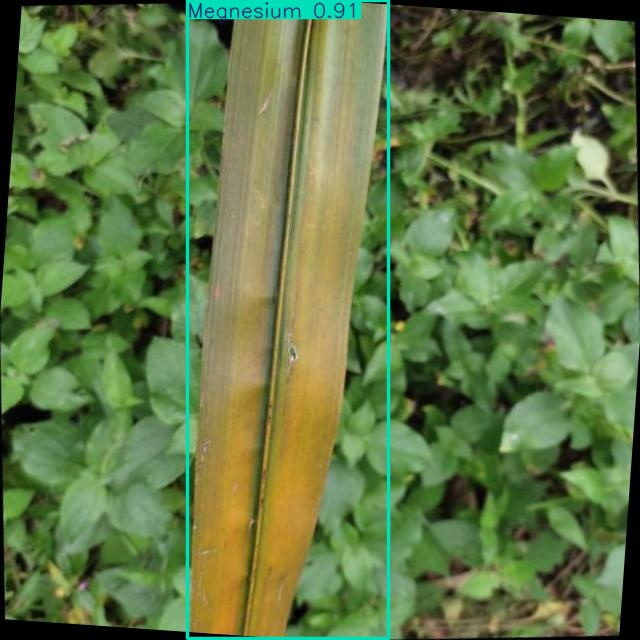Megnesium: (187, 1, 388, 639)
